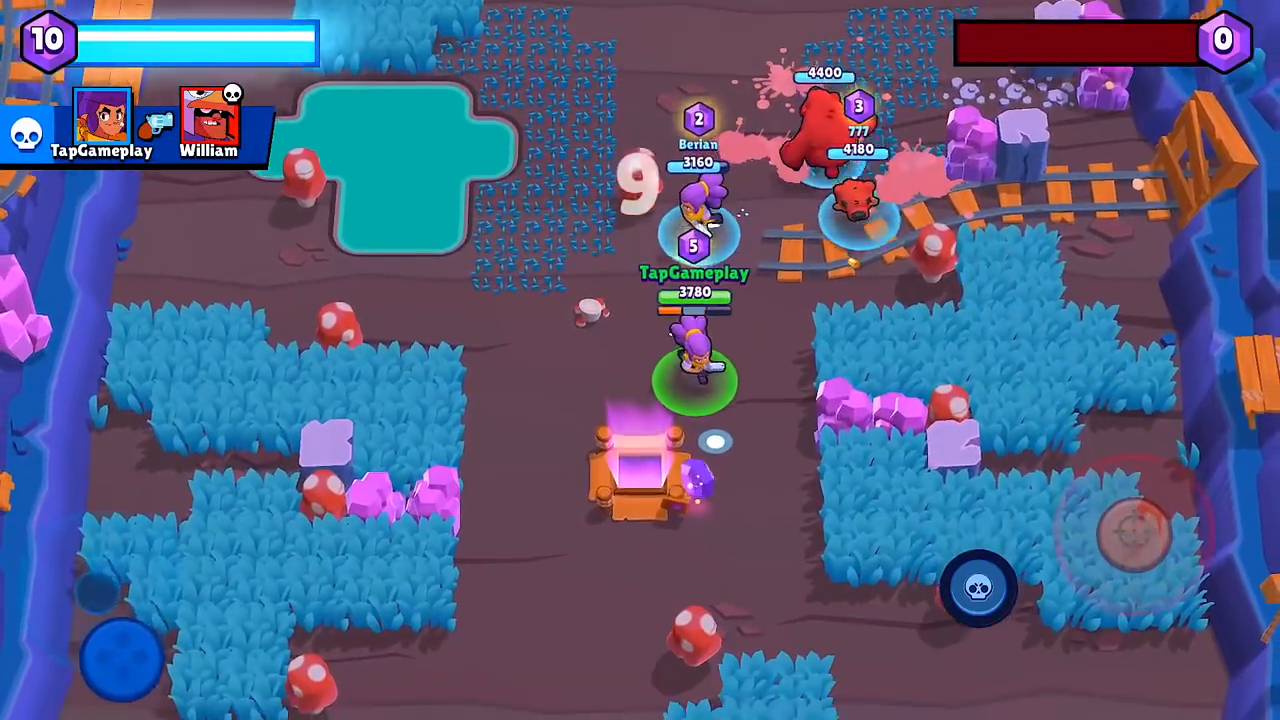move_stick: (67, 611, 172, 699)
